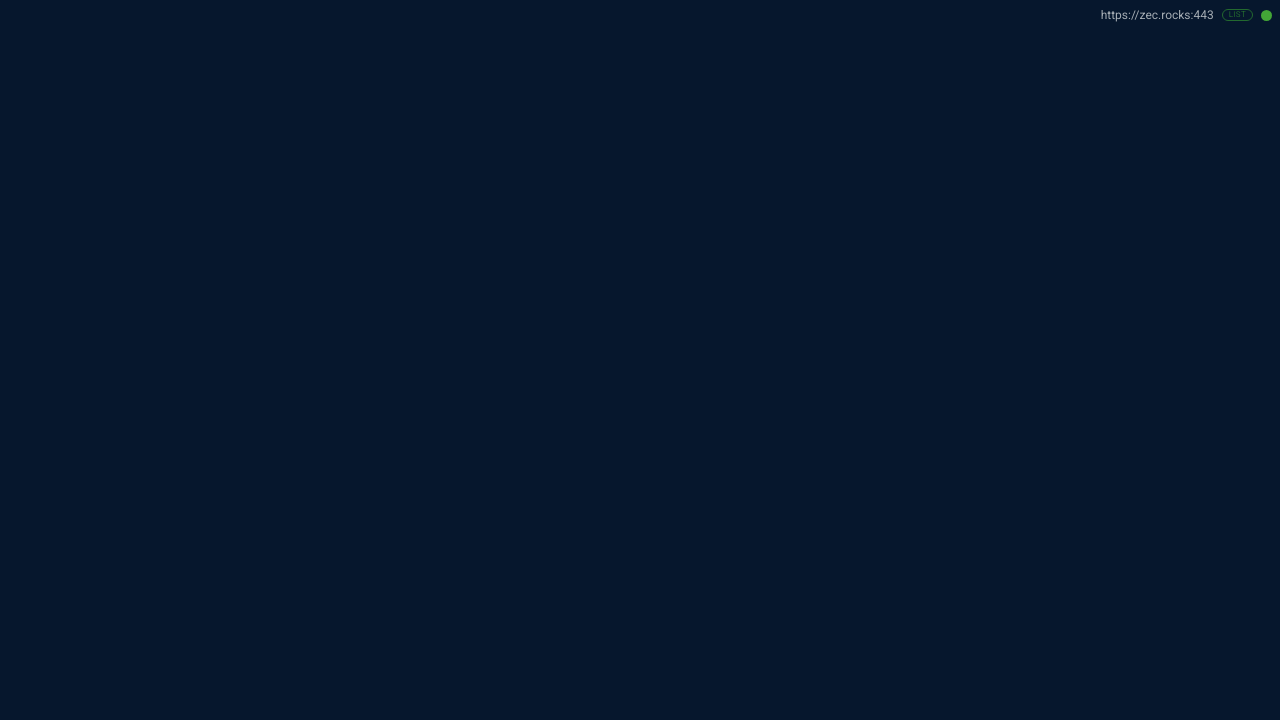
the picker labels servers the way the settings list does
Step 1. Click the button with aria-label "Active server health" → [1157, 15], box [8,8,1272,22]
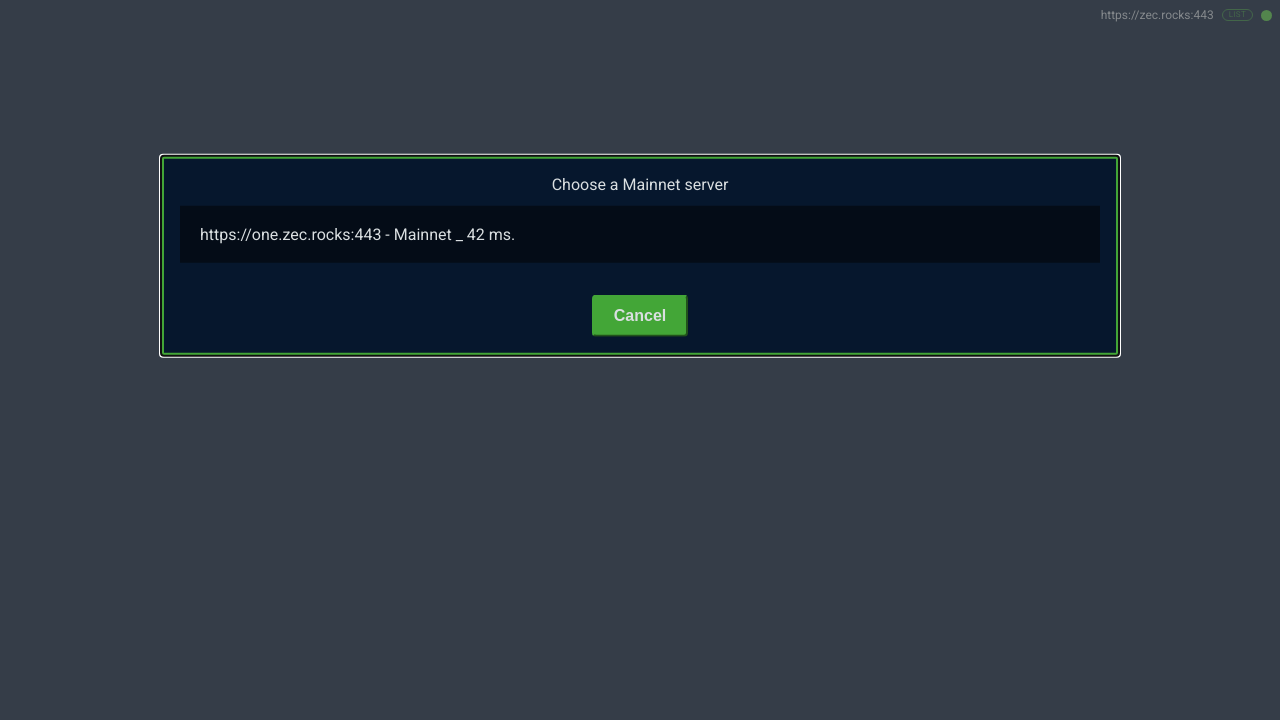
Result: the text "https://one.zec.rocks:443 - Mainnet _ 42 ms." is shown at [200,225,515,244]
